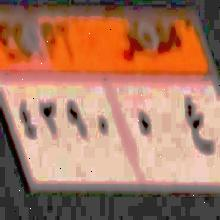0: (96, 103, 113, 149)
3: (40, 93, 59, 142)
4: (16, 91, 38, 142)
9: (66, 96, 90, 144)
ghayn: (182, 88, 213, 156)
haa: (136, 104, 158, 149)
